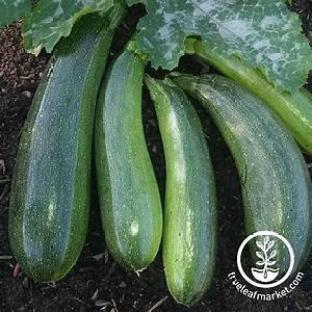Zucchini: (10, 3, 123, 281), (174, 74, 311, 271), (146, 77, 216, 305), (95, 42, 162, 270), (186, 38, 311, 154)
